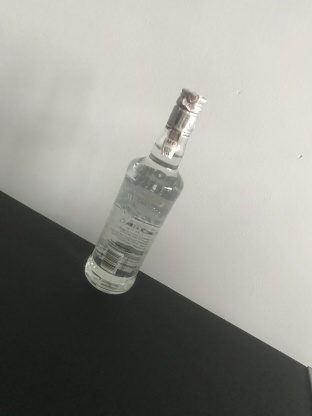nakretka: (164, 86, 207, 140)
